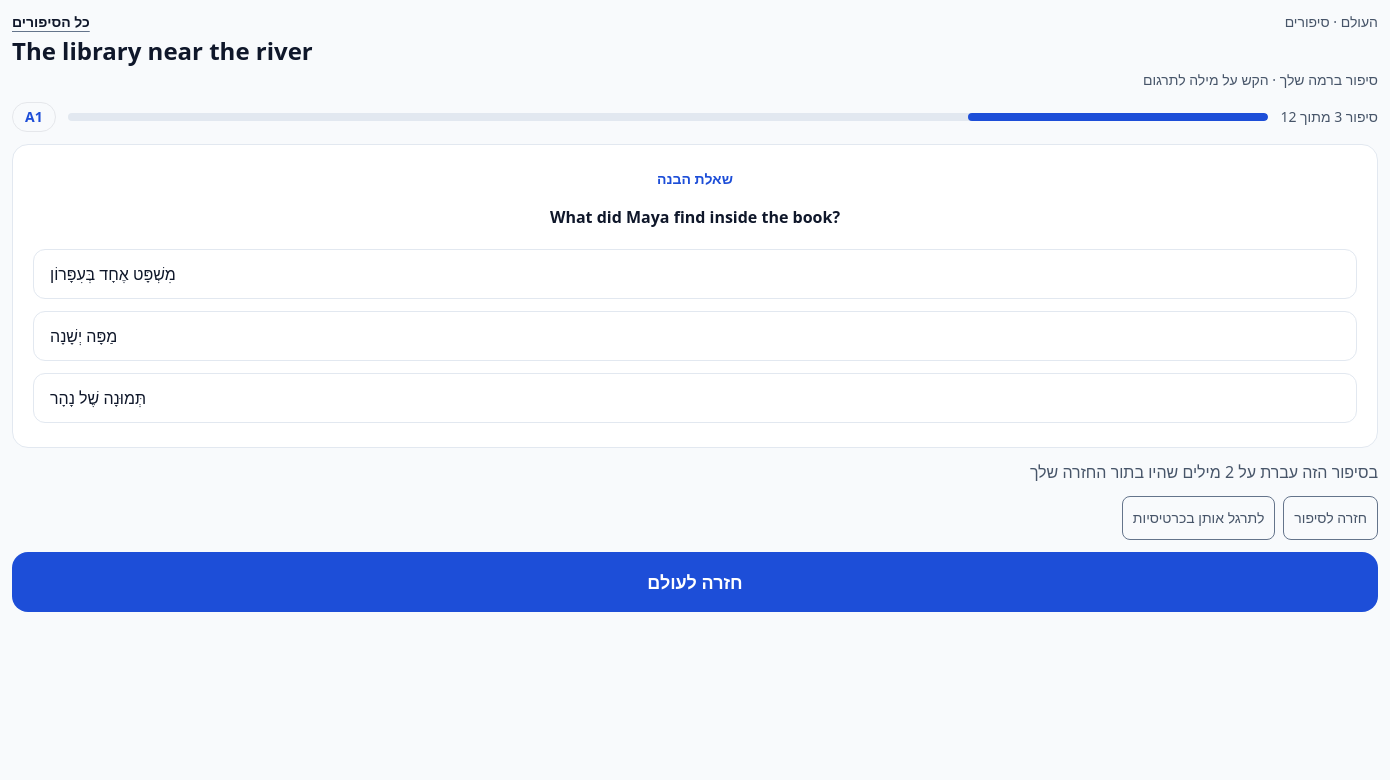
Test: T-381 — חזרה לגוף הסיפור, ⛔ ובלי לאבד את הבחירה › ⓒ החזרה ⛔ אינה עונש: הלומד יכול לחזור עוד לפני שבחר
The image size is (1390, 780).
Click the button "חזרה לסיפור": [1331, 518] box [1283,496,1378,540]
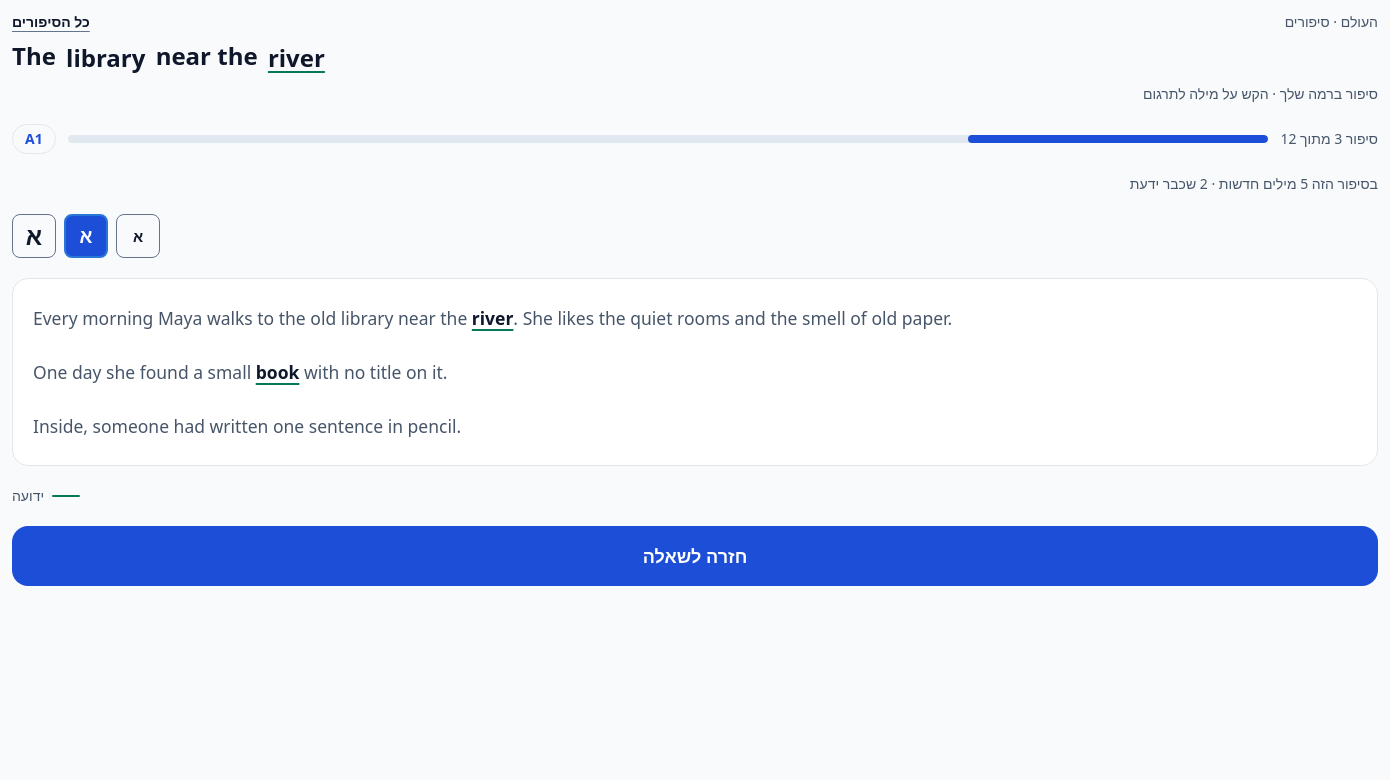
expect the element that starts with "Every" is shown: met, box [12,278,1378,466]
Click the button "חזרה לשאלה": [695, 556] box [12,526,1378,586]
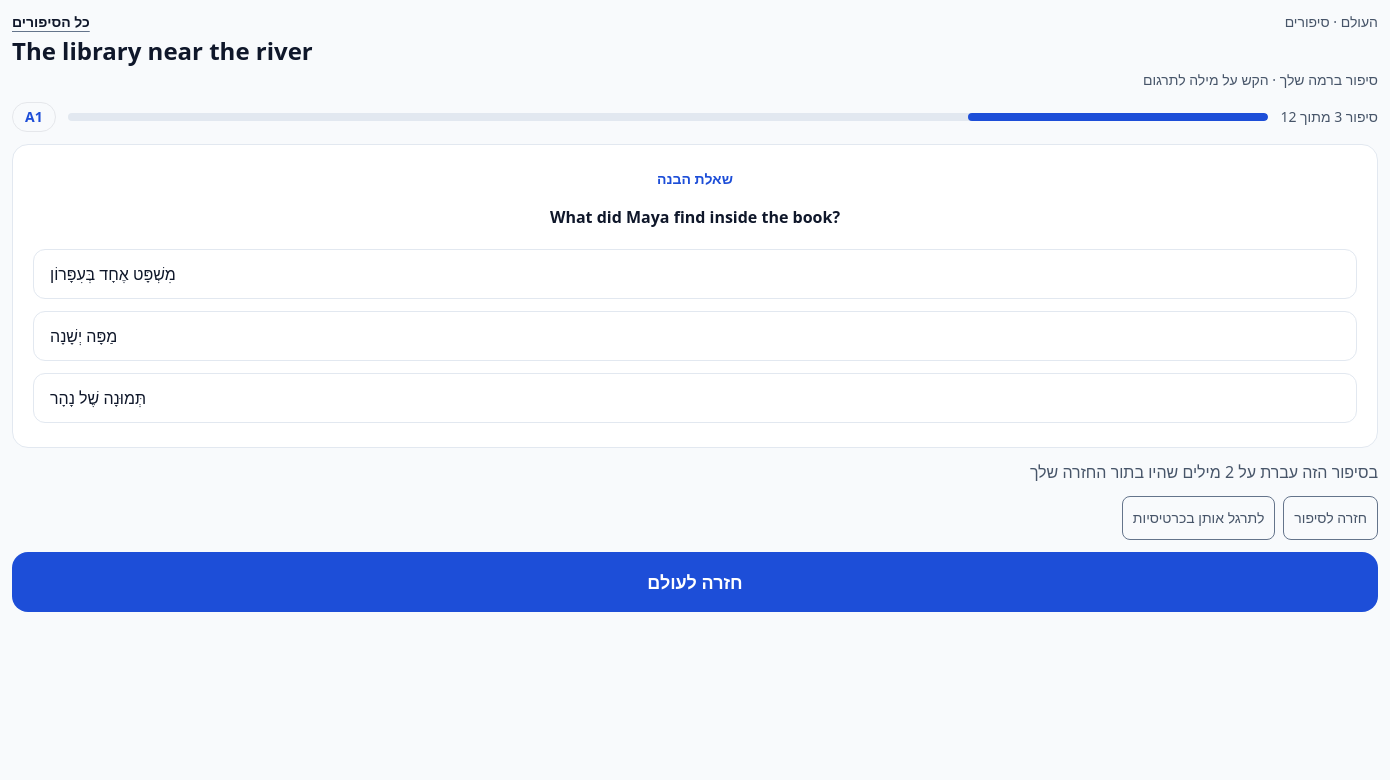
expect the button "מִשְׁפָּט אֶחָד בְּעִפָּרוֹן" is enabled: met, box [33,249,1357,299]
expect the button "מַפָּה יְשָׁנָה" is enabled: met, box [33,311,1357,361]
expect the button "תְּמוּנָה שֶׁל נָהָר" is enabled: met, box [33,373,1357,423]
